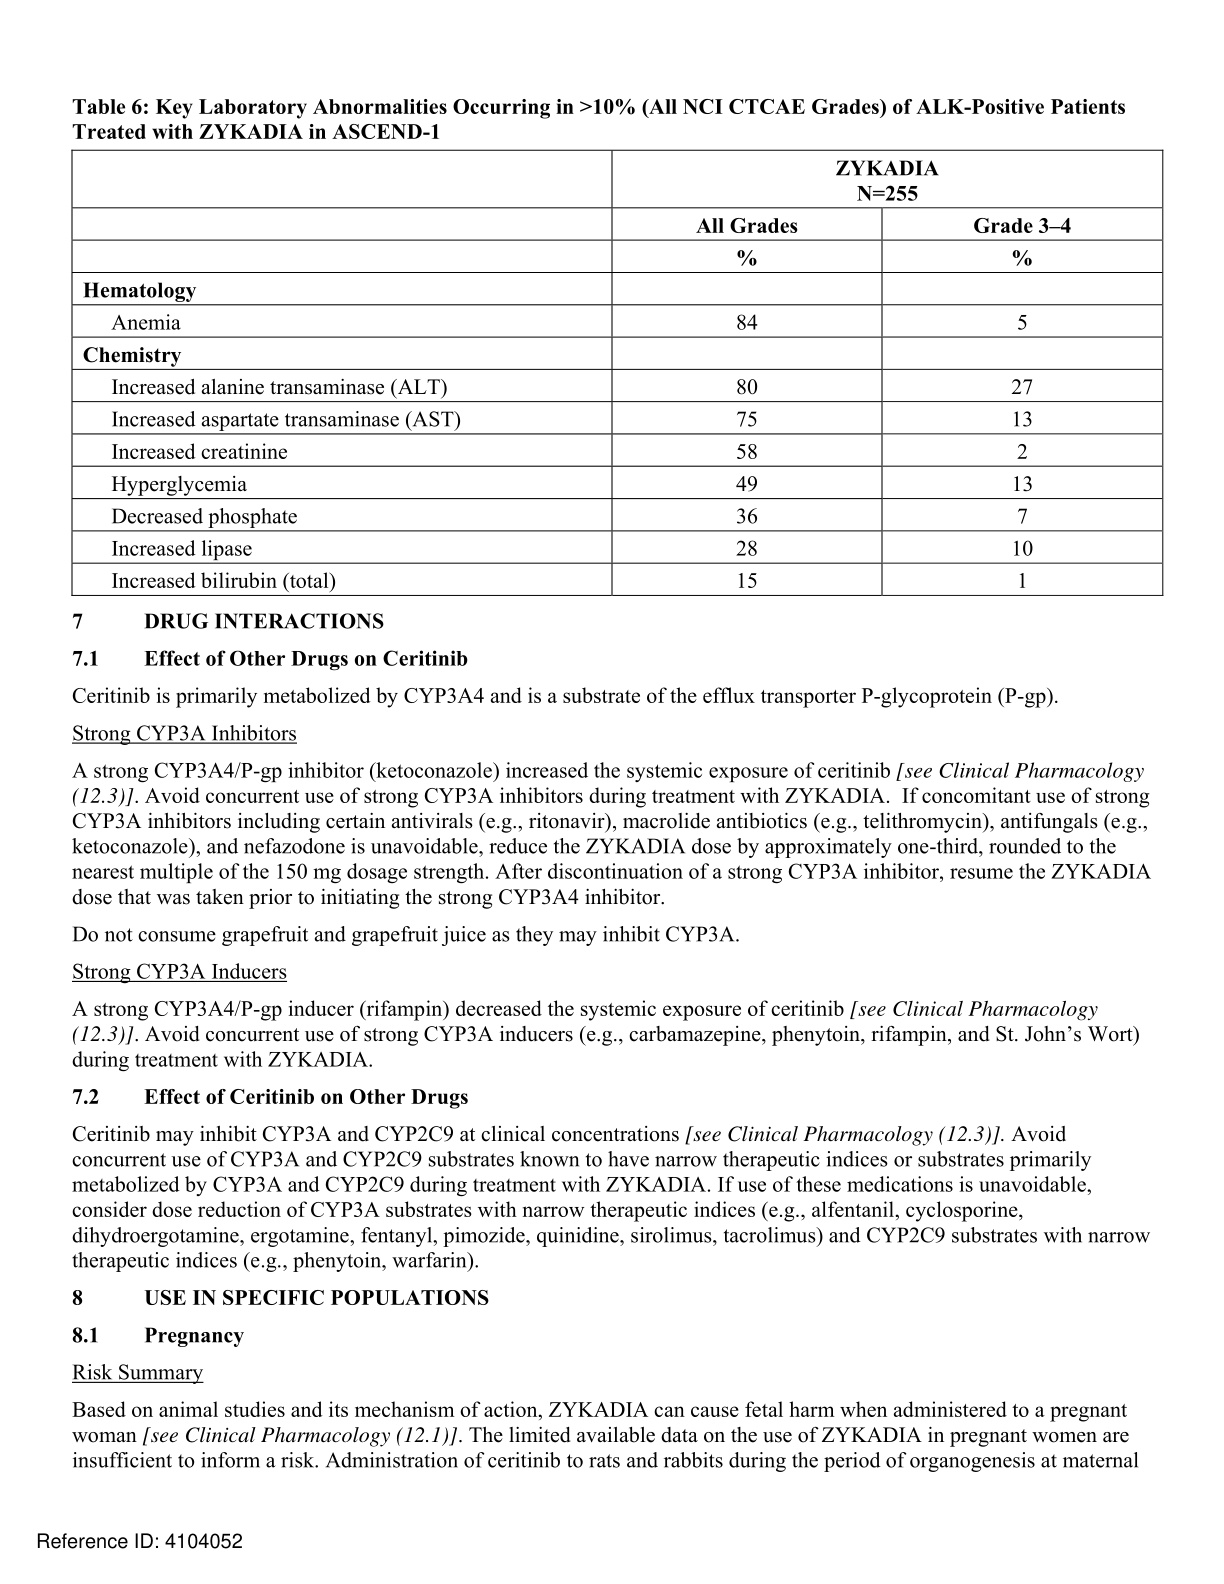merged_cells: (69, 148, 1164, 597)
